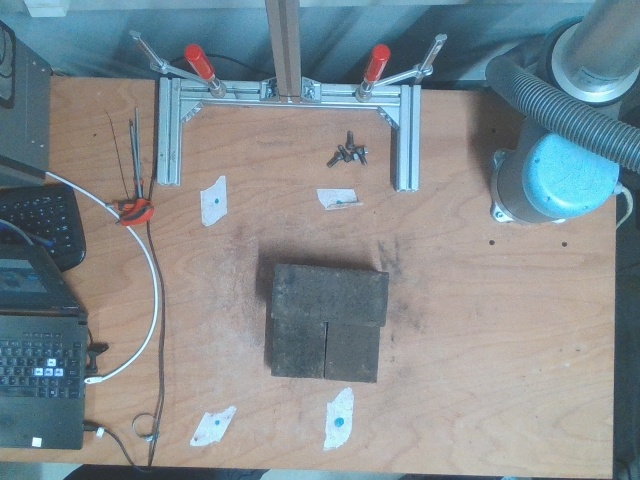brick: (274, 265, 388, 324)
